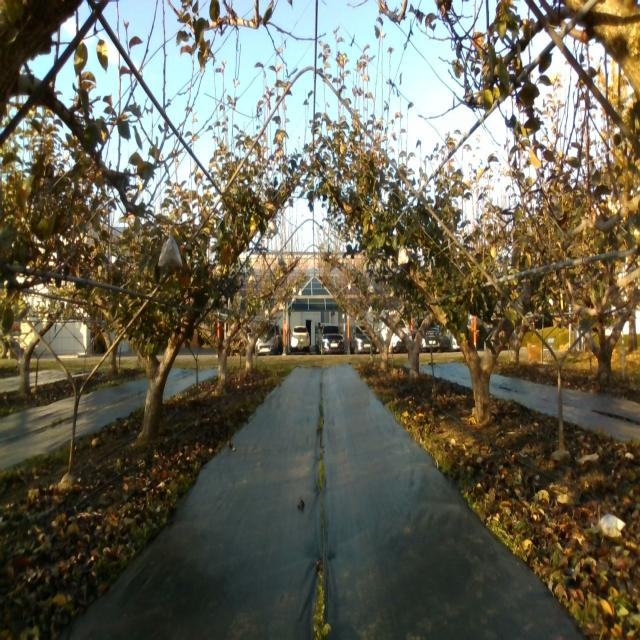pearbags: (158, 235, 183, 267), (398, 244, 409, 265)
